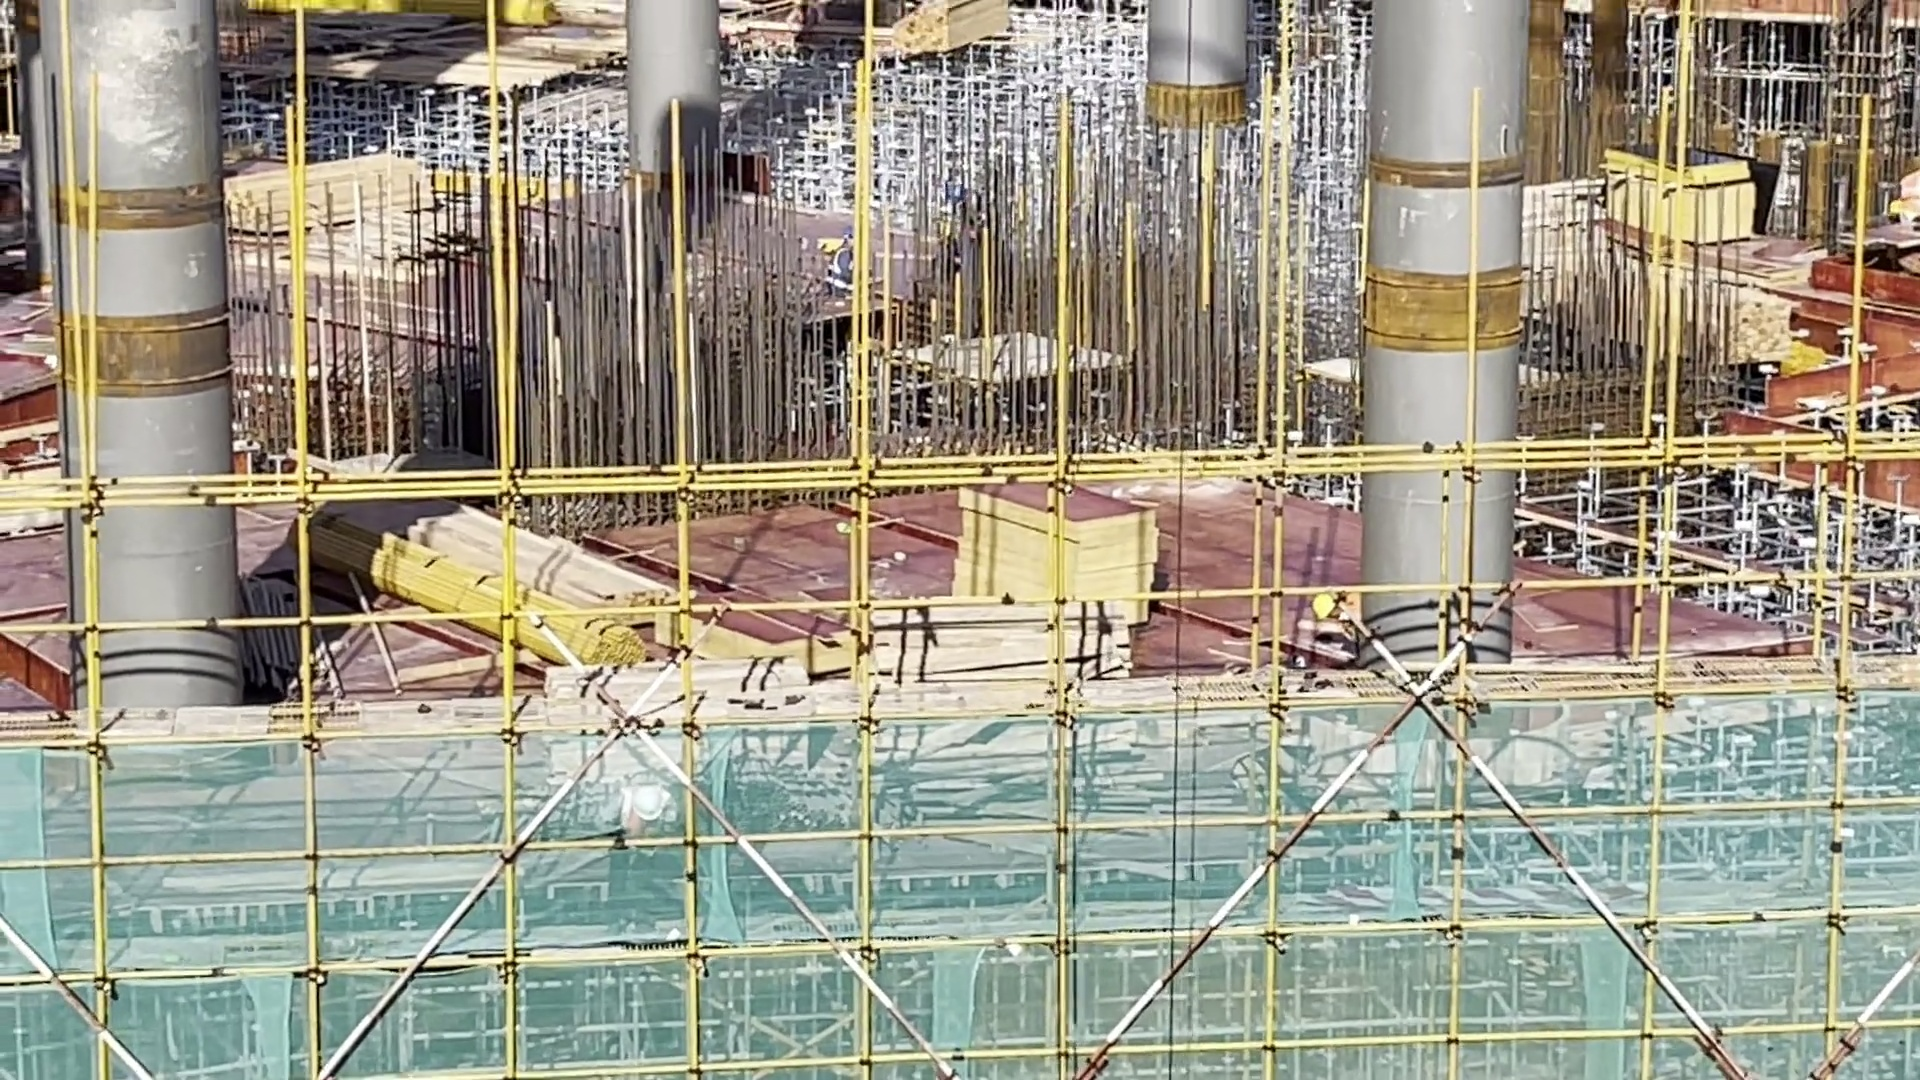board: (949, 483, 1158, 607)
wood: (394, 506, 686, 662), (873, 604, 1143, 680), (224, 152, 433, 220), (1709, 291, 1797, 376), (890, 1, 1011, 61)
